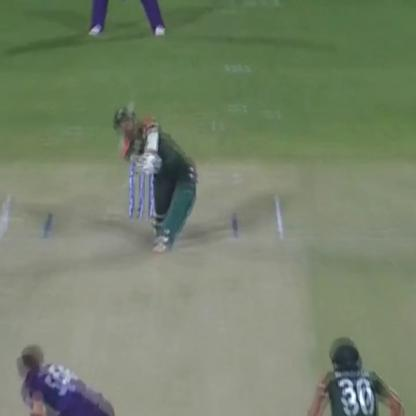ball: (122, 104, 134, 115)
bat: (120, 153, 157, 178)
pitch: (0, 184, 304, 416)
